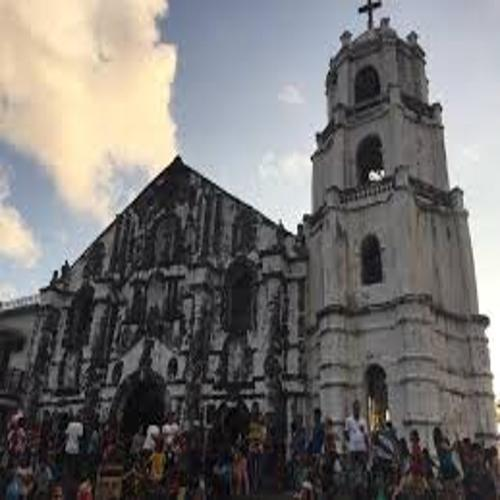Daraga Church: (35, 5, 500, 458)
